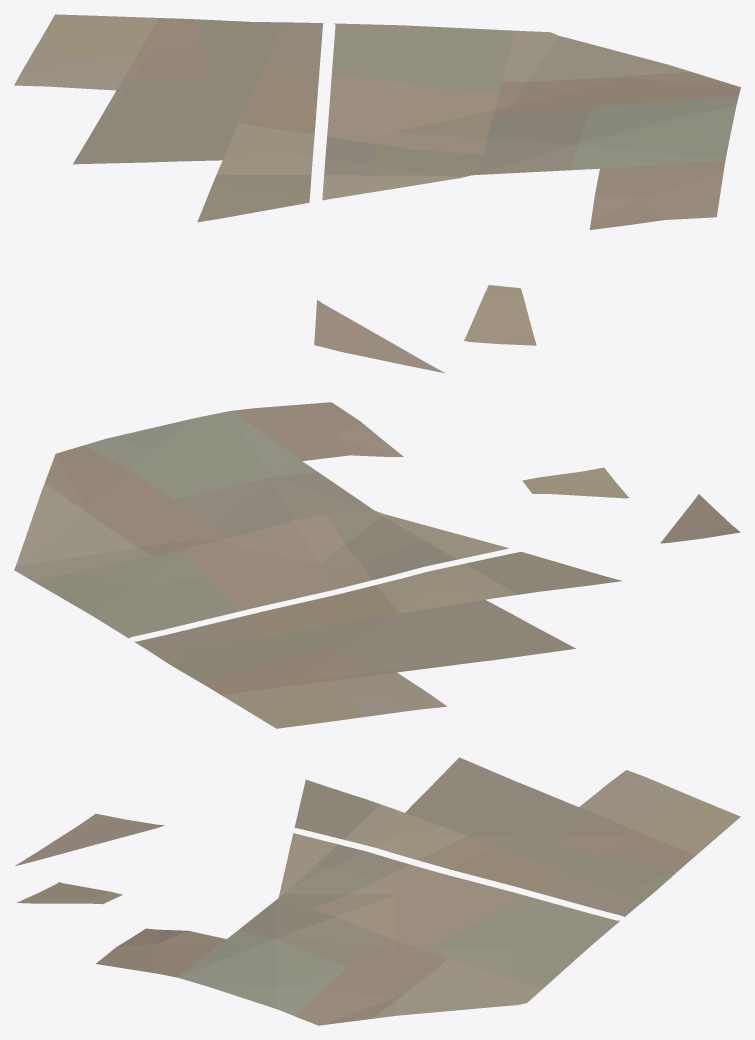
Rendered from farm_-20_-22_soil.glb.
The picture shows the model from 3 angles, top to bottom: view 1: azimuth 30°, elevation 25°; view 2: azimuth 150°, elevation 25°; view 3: azimuth 270°, elevation 25°; orthographic projection. The views are drawn at different scales.
Visible parts, largest first — view 1: geometry_0; view 2: geometry_0; view 3: geometry_0.
Part boxes in pixels (x1,y1,x2,y2): geometry_0: [14, 14, 740, 373]; geometry_0: [14, 402, 740, 728]; geometry_0: [15, 757, 740, 1025].
Size of the model in its own units: 413 by 41.77 by 488.
